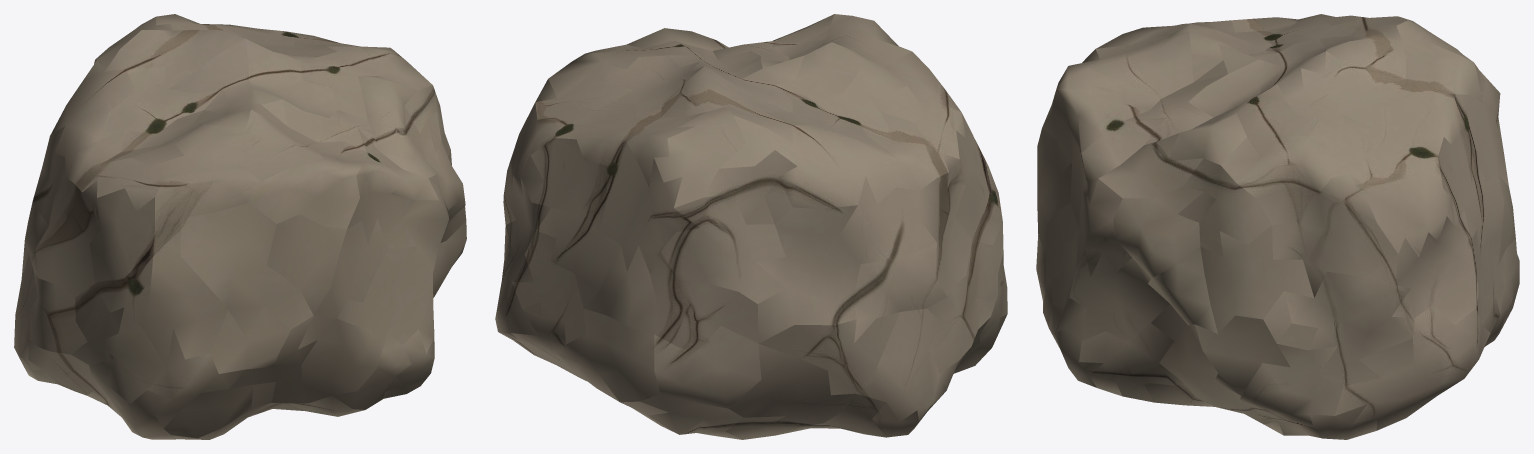
File: RockLarge.glb
The picture shows the model from 3 angles, left to right: view 1: azimuth 30°, elevation 25°; view 2: azimuth 150°, elevation 25°; view 3: azimuth 270°, elevation 25°; orthographic projection. The views are drawn at different scales.
Bounding box in the file's own units: 2.9 × 2.2 × 2.82.
Materials: 1 (1 with a texture image).
